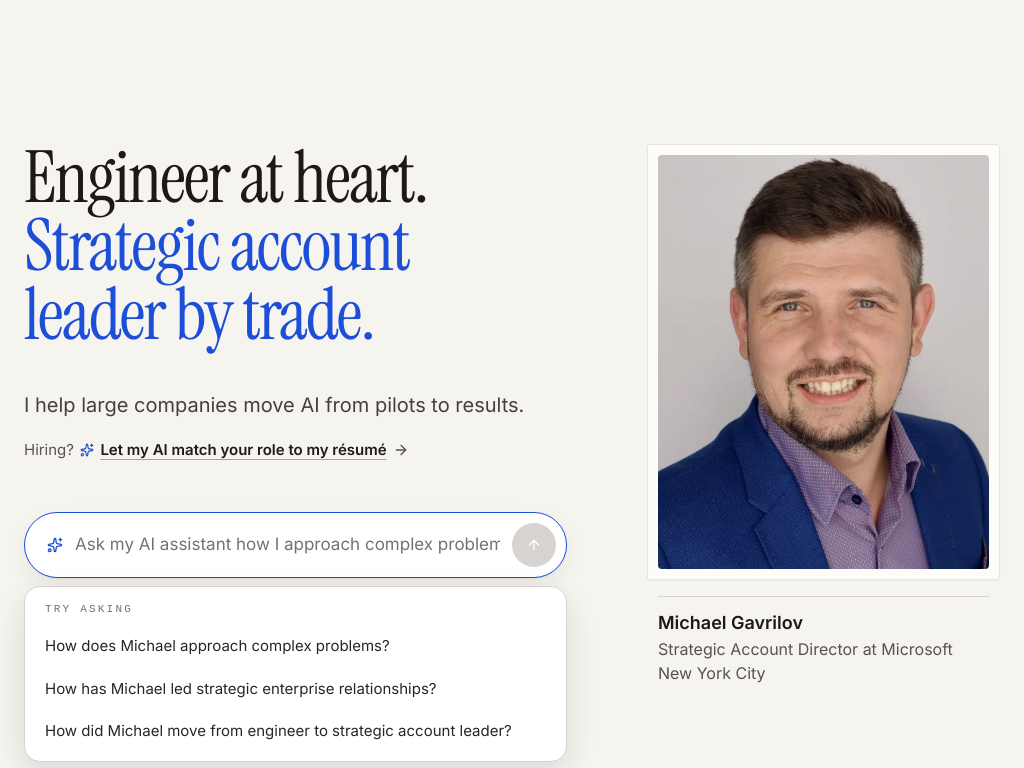
Test case: Hero › sends a clicked suggestion to the chat and closes the list
What coordinates should you click on to do the following:
click the option "How does Michael approach complex problems?"
I would click on:
 (217, 646)
Its box is top-left (45, 636), bottom-right (390, 655).
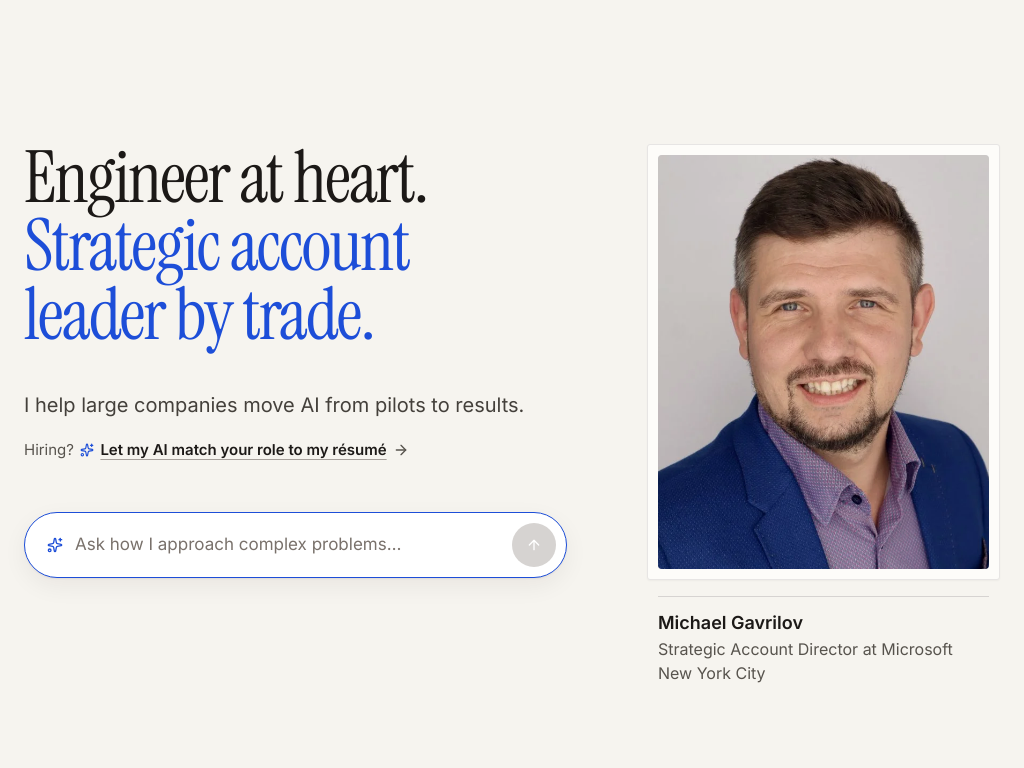
Check: the list is gone
